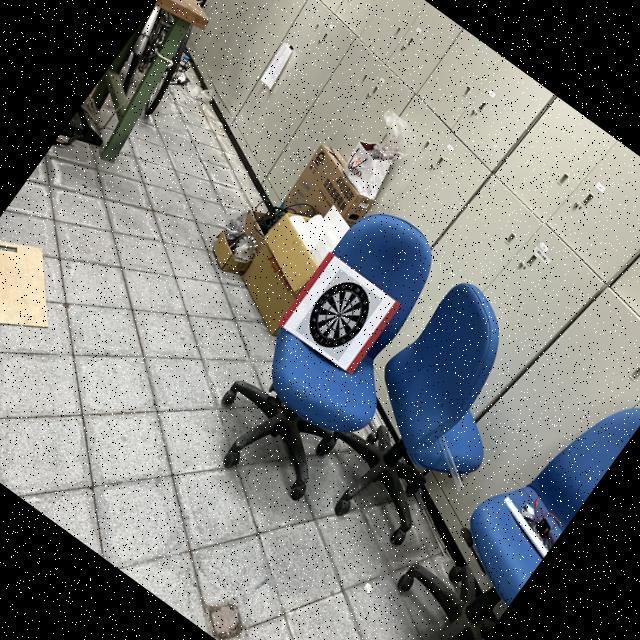archery-targets: (294, 268, 382, 361)
